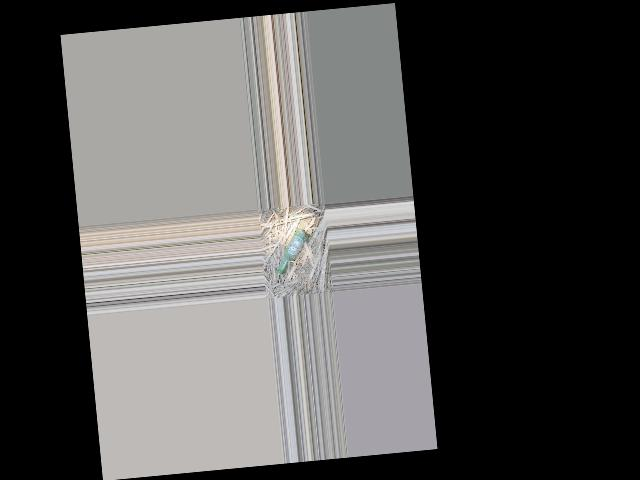beer: (274, 227, 313, 275)
